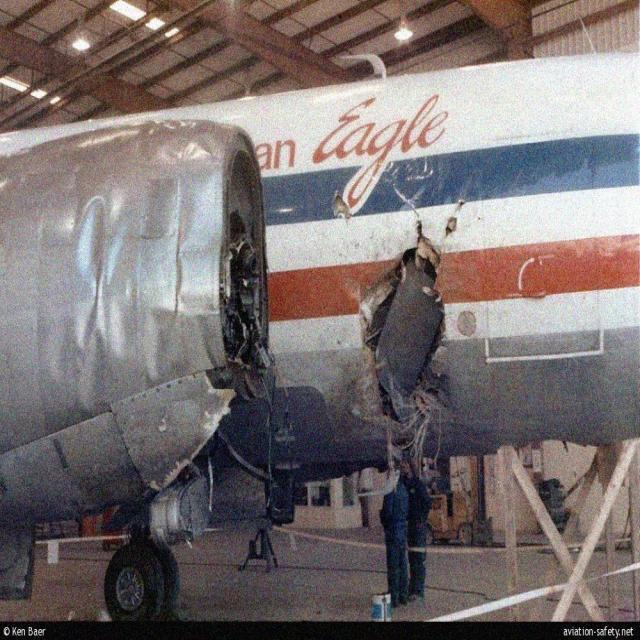crack: (364, 233, 444, 431), (222, 148, 269, 385)
dent: (45, 179, 192, 414), (48, 125, 229, 169)
